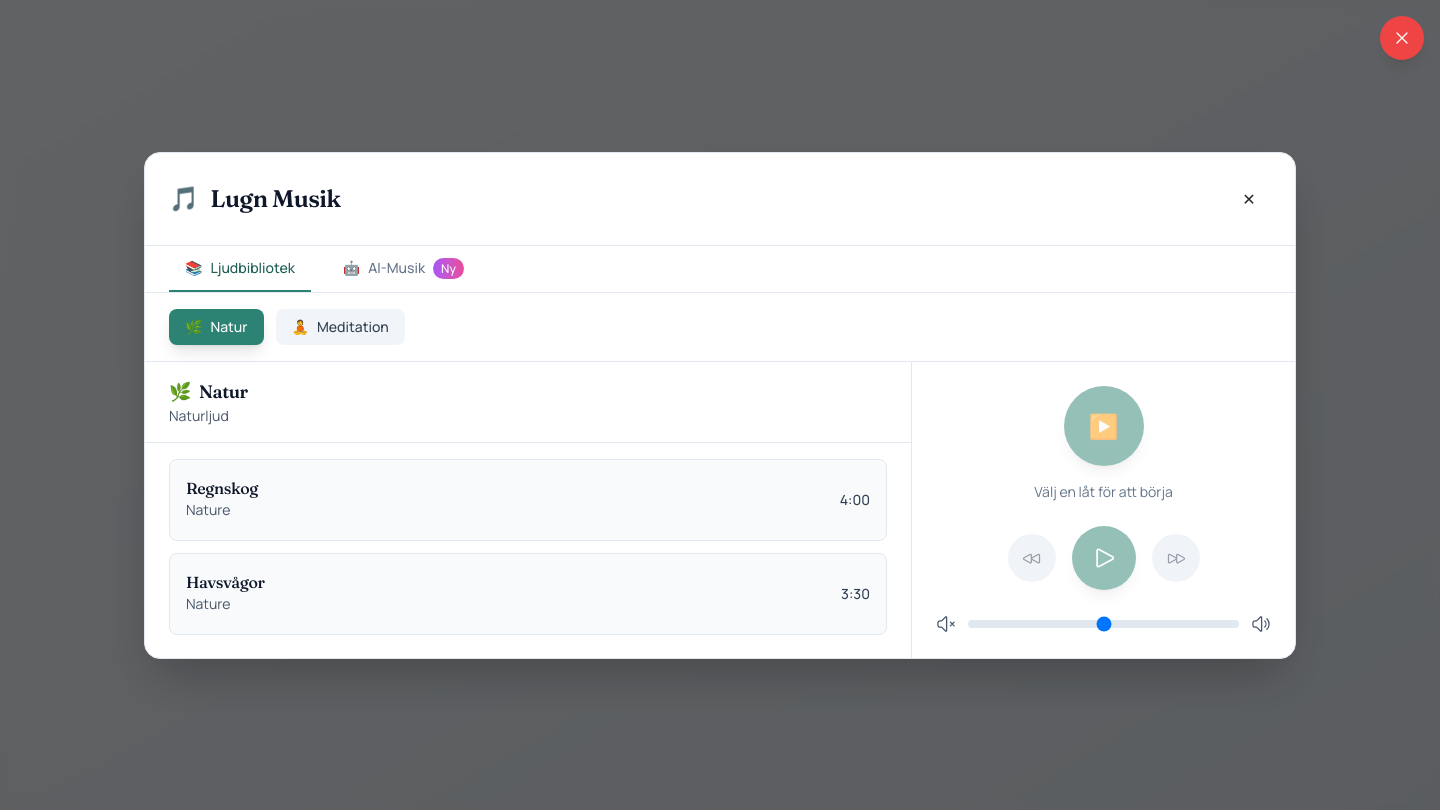
Scenario: RelaxingSounds › selects a different category
Expected: the heading "Regnskog" is shown, [186,478,258,498]
Click meditation category button (find by role since it's combined with icon)
Click the button "🧘Meditation" at (340, 326), box [276,308,405,344]
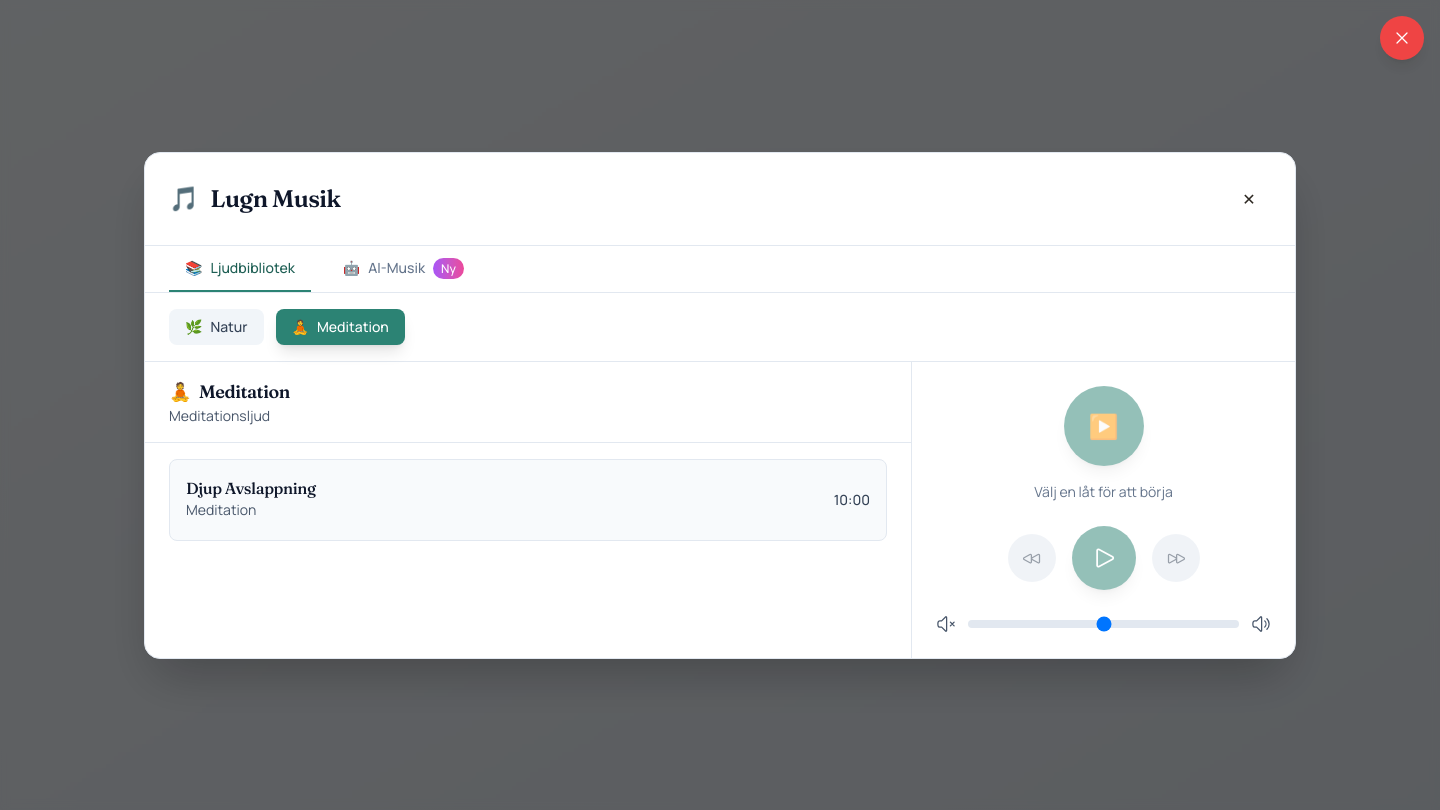
Now the heading "Djup Avslappning" is shown, box [186,478,316,498]
